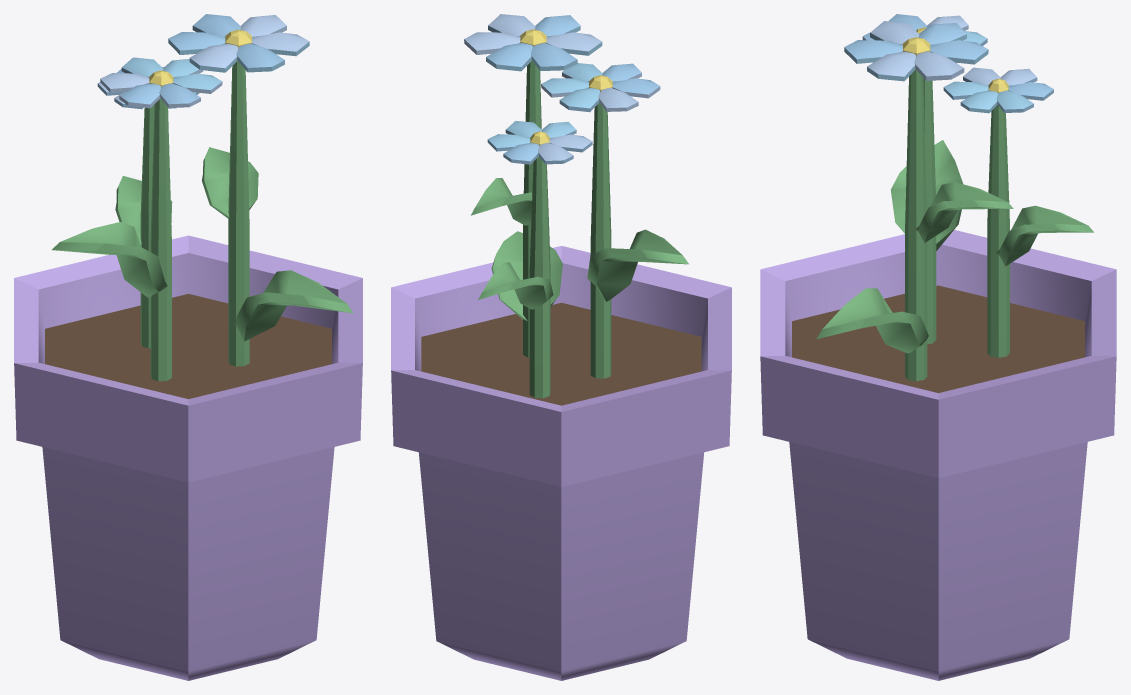
File: plant06_05.gltf
The picture shows the model from 3 angles, left to right: view 1: azimuth 30°, elevation 25°; view 2: azimuth 150°, elevation 25°; view 3: azimuth 270°, elevation 25°; orthographic projection. The views are drawn at different scales.
Visible parts, largest first — view 1: plant06_stage01:pot, plant06_stage01:dirt, plant06_stage04:plant06_stage03:plant06_stage02:pCylinder3, plant06_stage04:plant06_stage03:plant06_stage02:pCylinder1, plant06_stage04:plant06_stage03:plant06_stage02:pCube5, plant06_stage04:plant06_stage03:plant06_stage02:pCube3, plant06_stage04:plant06_stage03:plant06_stage02:pCylinder2, plant06_stage04:plant06_stage03:plant06_stage02:pCube6, plant06_stage04:plant06_stage03:plant06_stage02:pCube4, pCylinder21, pCylinder20, pCylinder19 (+8 smaller); view 2: plant06_stage01:pot, plant06_stage01:dirt, plant06_stage04:plant06_stage03:plant06_stage02:pCylinder1, plant06_stage04:plant06_stage03:plant06_stage02:pCylinder2, plant06_stage04:plant06_stage03:plant06_stage02:pCube3, plant06_stage04:plant06_stage03:plant06_stage02:pCylinder3, plant06_stage04:plant06_stage03:plant06_stage02:pCube5, plant06_stage04:plant06_stage03:plant06_stage02:pCube4, plant06_stage04:plant06_stage03:plant06_stage02:pCube6, pCylinder17, pCylinder22, pCylinder21 (+13 smaller); view 3: plant06_stage01:pot, plant06_stage01:dirt, plant06_stage04:plant06_stage03:plant06_stage02:pCylinder3, plant06_stage04:plant06_stage03:plant06_stage02:pCylinder2, plant06_stage04:plant06_stage03:plant06_stage02:pCube5, plant06_stage04:plant06_stage03:plant06_stage02:pCube6, plant06_stage04:plant06_stage03:plant06_stage02:pCube4, plant06_stage04:plant06_stage03:plant06_stage02:pCylinder1, plant06_stage04:plant06_stage03:plant06_stage02:pCube3, pCylinder19, plant06_stage04:pCylinder16, pCylinder20 (+7 smaller).
Part boxes in pixels (x1,y1,x2,y2): plant06_stage01:pot: (14,235,362,680); plant06_stage01:dirt: (45,294,331,398); plant06_stage04:plant06_stage03:plant06_stage02:pCylinder3: (228,61,249,366); plant06_stage04:plant06_stage03:plant06_stage02:pCylinder1: (150,98,171,381); plant06_stage04:plant06_stage03:plant06_stage02:pCube5: (233,270,353,341); plant06_stage04:plant06_stage03:plant06_stage02:pCube3: (52,222,167,297); plant06_stage04:plant06_stage03:plant06_stage02:pCylinder2: (140,105,154,348); plant06_stage04:plant06_stage03:plant06_stage02:pCube6: (202,147,258,218); plant06_stage04:plant06_stage03:plant06_stage02:pCube4: (115,176,172,245); pCylinder21: (189,43,238,72); pCylinder20: (236,43,284,72); pCylinder19: (252,32,309,56); plant06_stage01:pot: (391,246,731,680); plant06_stage01:dirt: (421,302,701,405); plant06_stage04:plant06_stage03:plant06_stage02:pCylinder1: (590,103,611,378); plant06_stage04:plant06_stage03:plant06_stage02:pCylinder2: (529,156,550,398); plant06_stage04:plant06_stage03:plant06_stage02:pCube3: (587,229,688,301); plant06_stage04:plant06_stage03:plant06_stage02:pCylinder3: (523,61,541,357); plant06_stage04:plant06_stage03:plant06_stage02:pCube5: (491,231,562,320); plant06_stage04:plant06_stage03:plant06_stage02:pCube4: (478,262,553,309); plant06_stage04:plant06_stage03:plant06_stage02:pCube6: (471,178,532,225); pCylinder17: (486,43,532,71); pCylinder22: (531,43,577,70); pCylinder21: (546,32,602,55); plant06_stage01:pot: (760,230,1116,680); plant06_stage01:dirt: (792,285,1084,392); plant06_stage04:plant06_stage03:plant06_stage02:pCylinder3: (905,69,927,381); plant06_stage04:plant06_stage03:plant06_stage02:pCylinder2: (987,105,1009,357); plant06_stage04:plant06_stage03:plant06_stage02:pCube5: (816,288,928,353); plant06_stage04:plant06_stage03:plant06_stage02:pCube6: (915,182,1013,242); plant06_stage04:plant06_stage03:plant06_stage02:pCube4: (996,205,1093,266); plant06_stage04:plant06_stage03:plant06_stage02:pCylinder1: (923,78,936,344); plant06_stage04:plant06_stage03:plant06_stage02:pCube3: (890,140,962,250); pCylinder19: (867,51,915,81); plant06_stage04:pCylinder16: (914,51,964,80); pCylinder20: (844,40,902,63).
Bounding box in the file's own units: 0.0193 × 0.0319 × 0.0167.
Materials: 2 (2 with a texture image).
